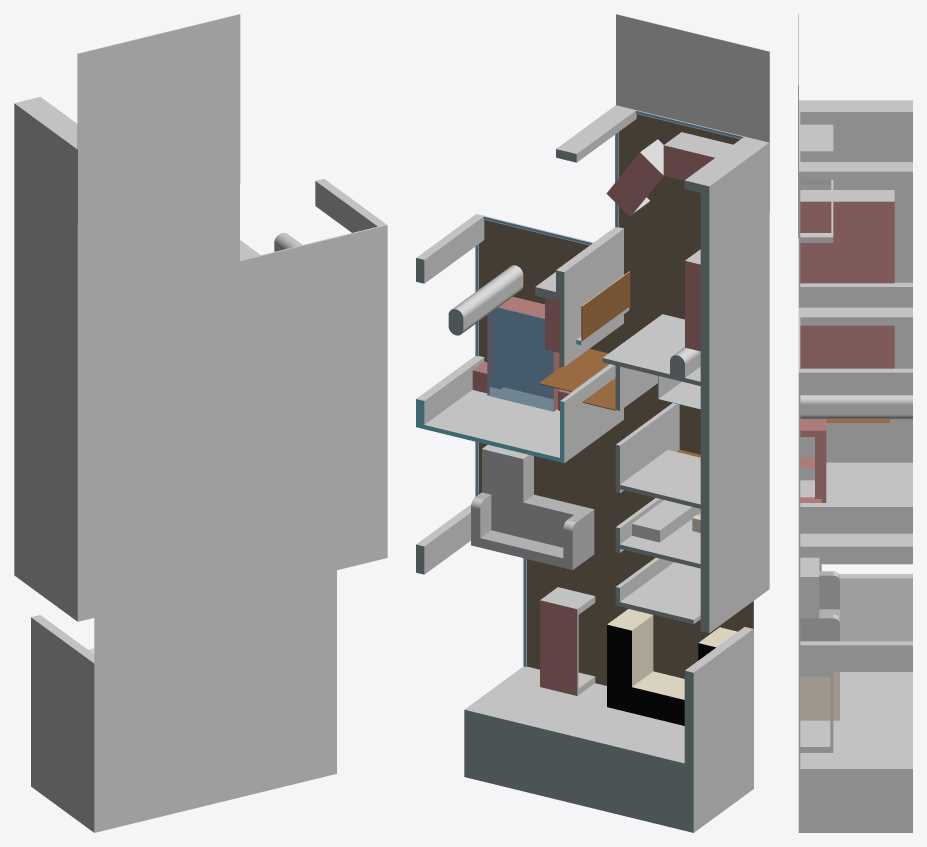
Rendered from grundriss.glb.
3 views of the same model, side by side, from view 1: azimuth 30°, elevation 25°; view 2: azimuth 150°, elevation 25°; view 3: azimuth 270°, elevation 25° (orthographic). The views are drawn at different scales.
Parts seen in each view (by area): view 1: Node1; view 2: Node1, Node6, Node9, Node5, Node2, Node8, Node13, Node3, Node10, Node11; view 3: Node1, Node5, Node14, Node2, Node10, Node13.
Part boxes in pixels (<box>): Node1: <box>14,14,387,832</box>; Node1: <box>416,14,769,832</box>; Node6: <box>479,114,753,685</box>; Node9: <box>416,149,709,832</box>; Node5: <box>472,145,714,695</box>; Node2: <box>471,449,594,569</box>; Node8: <box>475,111,743,666</box>; Node13: <box>539,271,700,457</box>; Node3: <box>607,624,715,725</box>; Node10: <box>607,515,737,699</box>; Node11: <box>416,340,700,463</box>; Node1: <box>798,14,912,832</box>; Node5: <box>800,201,894,502</box>; Node14: <box>840,578,912,641</box>; Node2: <box>800,571,839,641</box>; Node10: <box>800,672,839,720</box>; Node13: <box>826,419,889,422</box>.
Size of the model in its own units: 7070 by 17071 by 2520.
